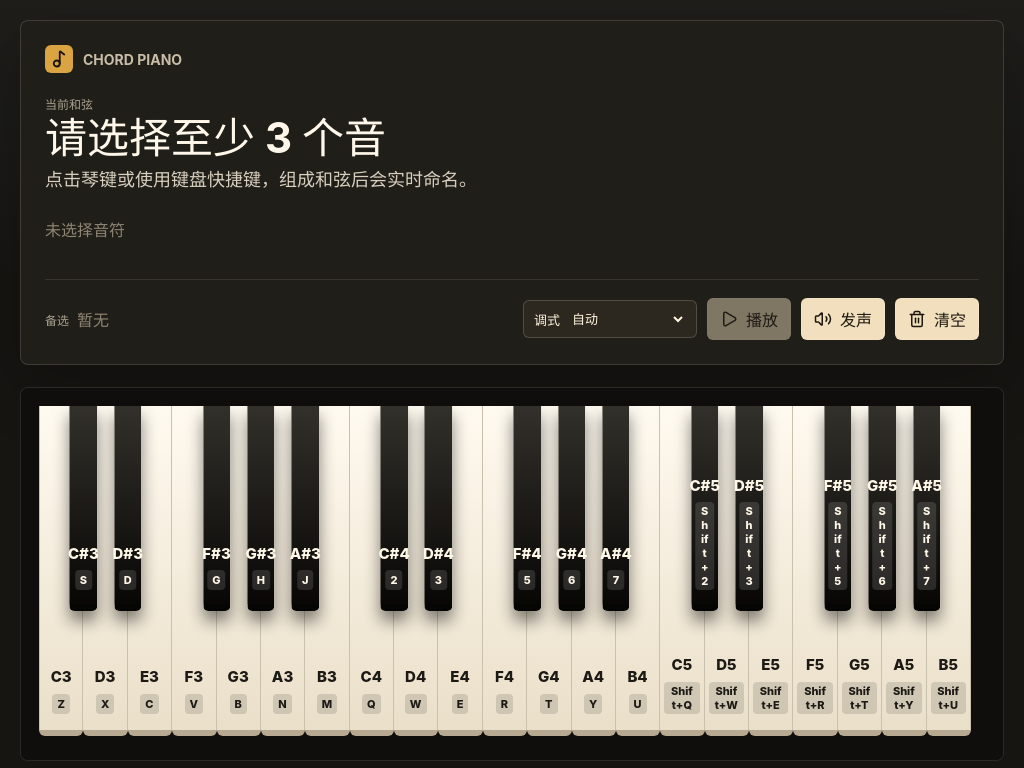
it: App › updates the chord name when piano keys are clicked
The width and height of the screenshot is (1024, 768).
Click the button with test id "note-C3".
click(61, 571)  # box [39,406,83,736]
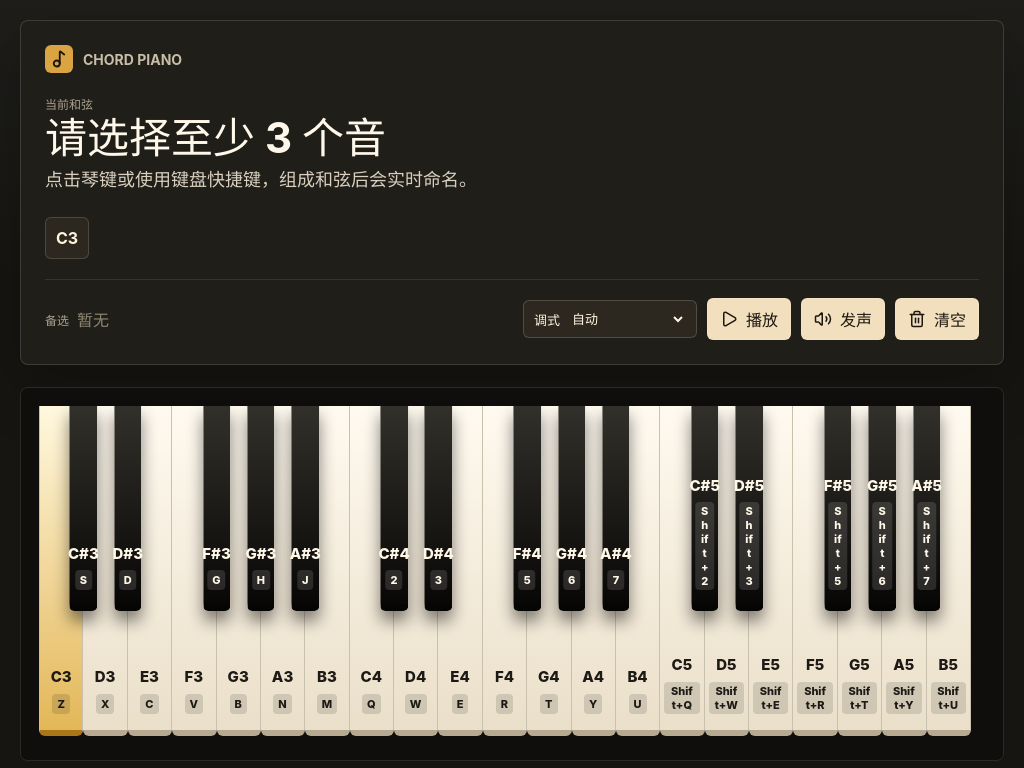
Click the button with test id "note-E3".
click(150, 571)  # box [128,406,172,736]
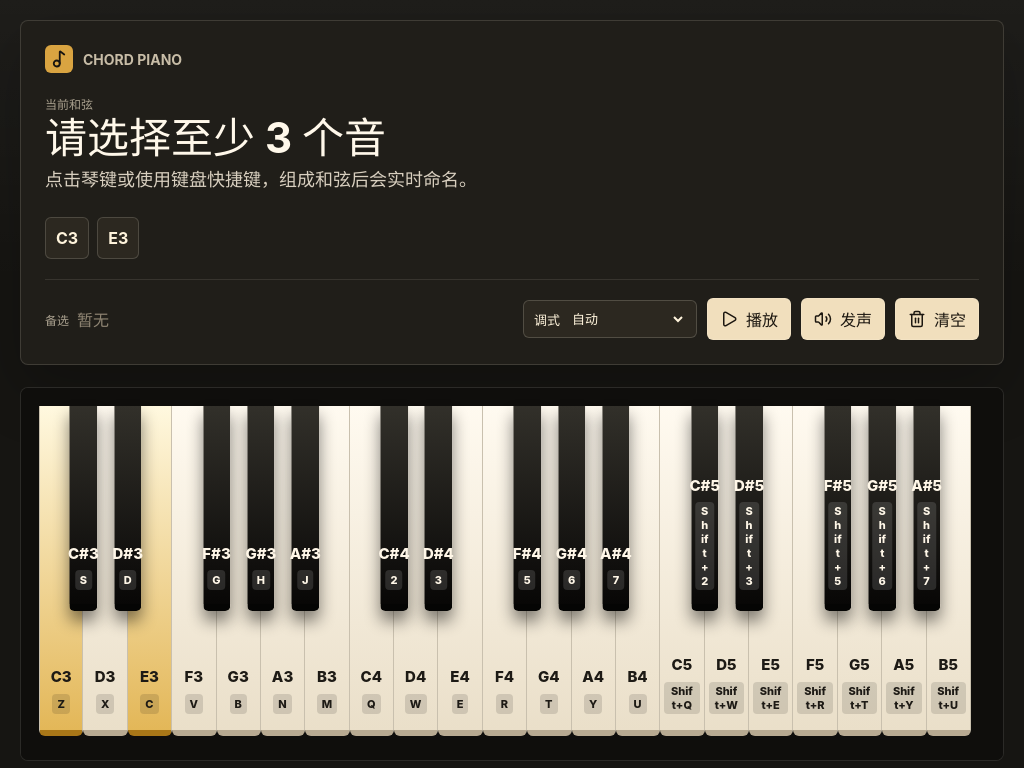
Click the button with test id "note-G3".
click(239, 571)  # box [216,406,261,736]
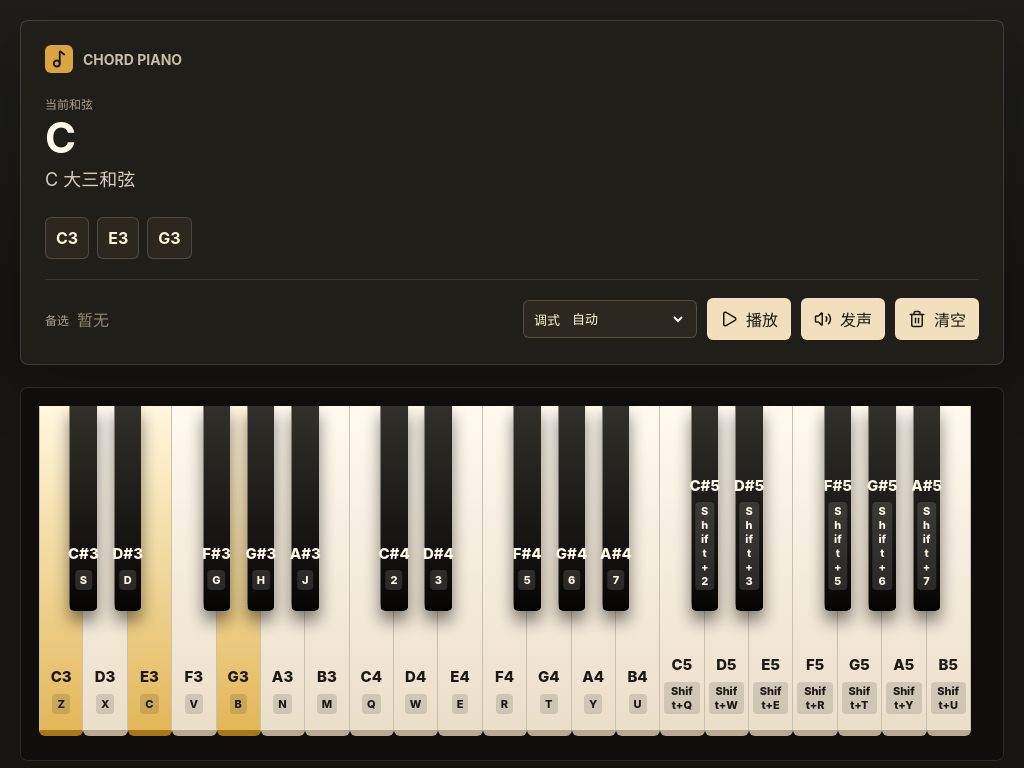
Expected: the heading with test id "primary-chord" reads "C", [45,112,76,163]
Expected: the text with test id "chinese-name" reads "C 大三和弦", [45,169,135,190]
Click the button with test id "note-E3".
click(150, 571)  # box [128,406,172,736]
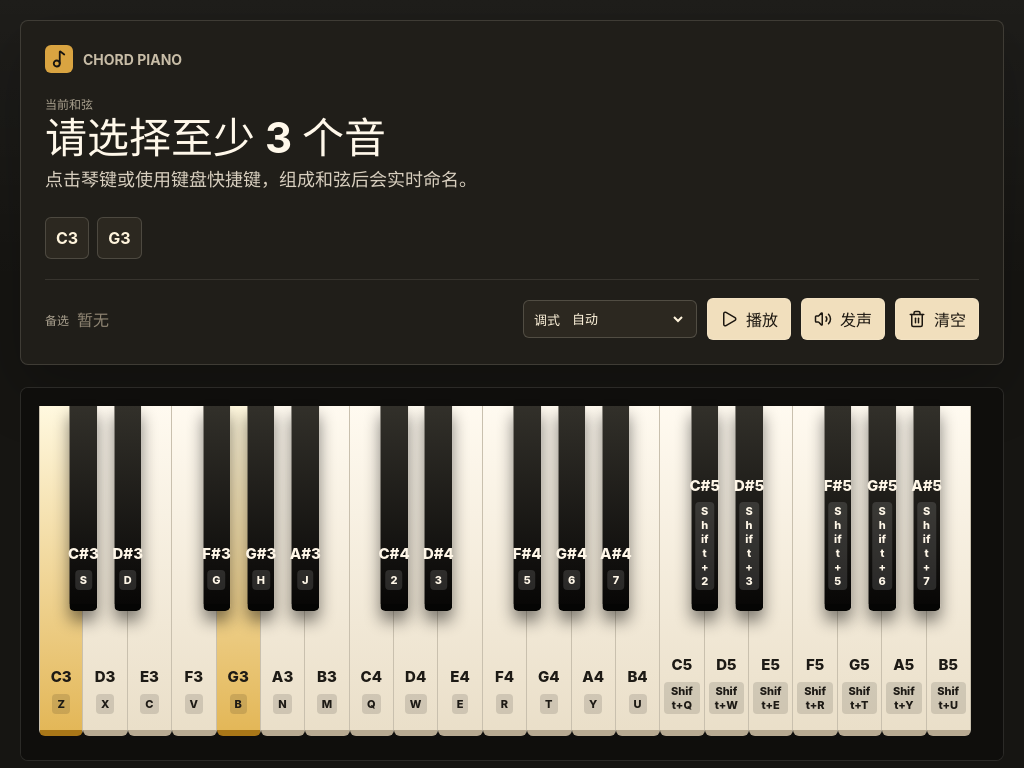
Expected: the heading with test id "primary-chord" reads "请选择至少 3 个音", [45,112,386,163]
